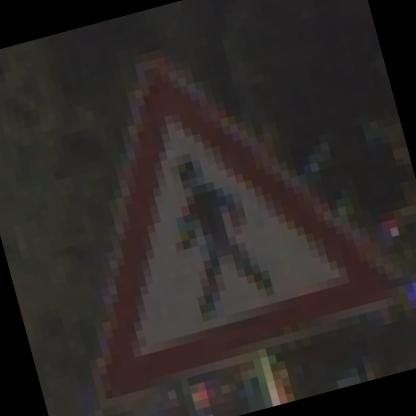crosswalk: (11, 0, 408, 398)
